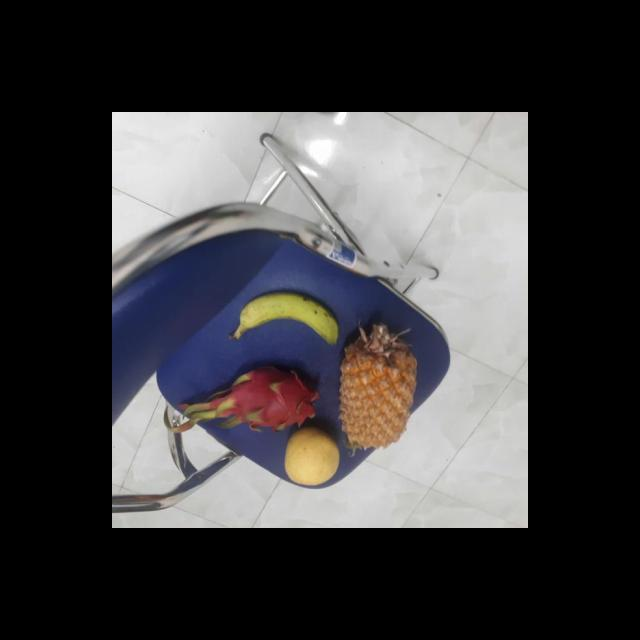Sakya fruit: (336, 323, 416, 450)
banana: (232, 293, 336, 352)
pear: (282, 427, 342, 486)
pitaya: (209, 365, 315, 432)
